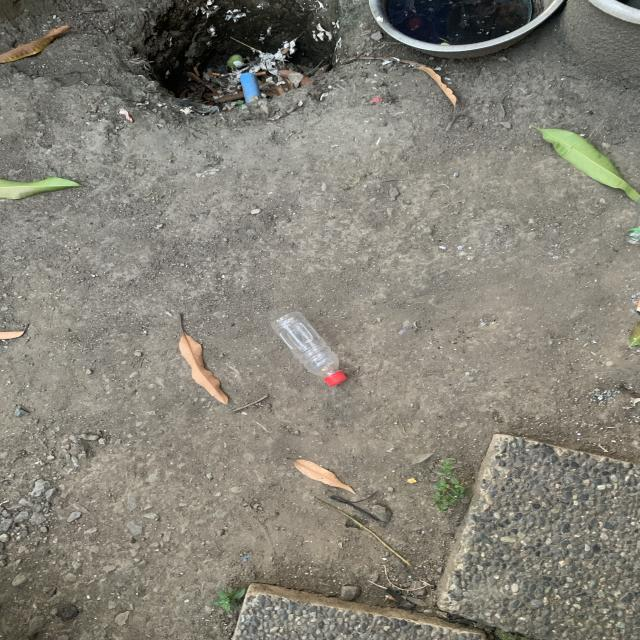Bottle: (273, 312, 346, 386)
